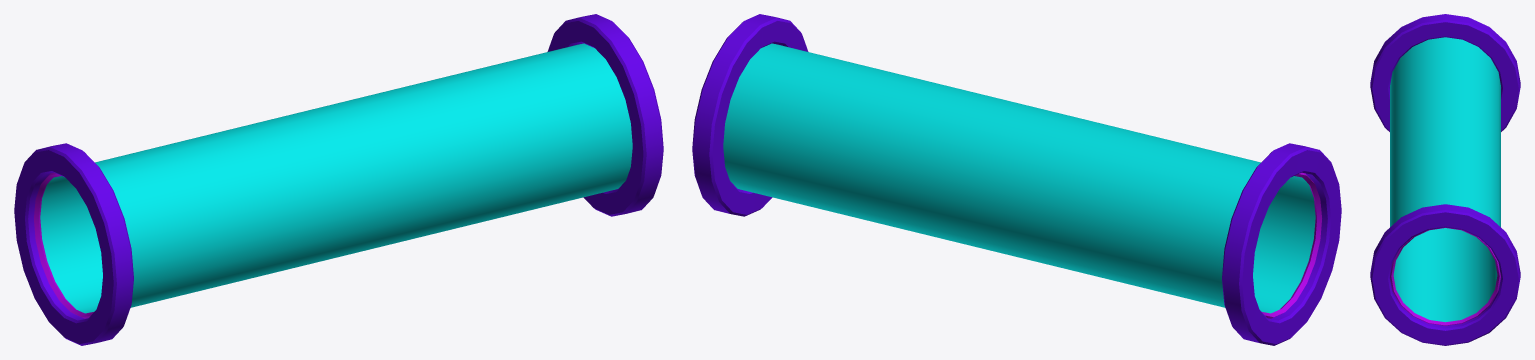
The model's file is Large Straight.fbx.
3 views of the same model, side by side, from view 1: azimuth 30°, elevation 25°; view 2: azimuth 150°, elevation 25°; view 3: azimuth 270°, elevation 25° (orthographic). The views are drawn at different scales.
Visible parts, largest first — view 1: SmartCombine_3; view 2: SmartCombine_3; view 3: SmartCombine_3.
Part boxes in pixels (x1=…): SmartCombine_3: x1=14, y1=14, x2=663, y2=345; SmartCombine_3: x1=692, y1=14, x2=1341, y2=345; SmartCombine_3: x1=1370, y1=14, x2=1520, y2=345.
Size of the model in its own units: 77.88 by 25 by 25.
